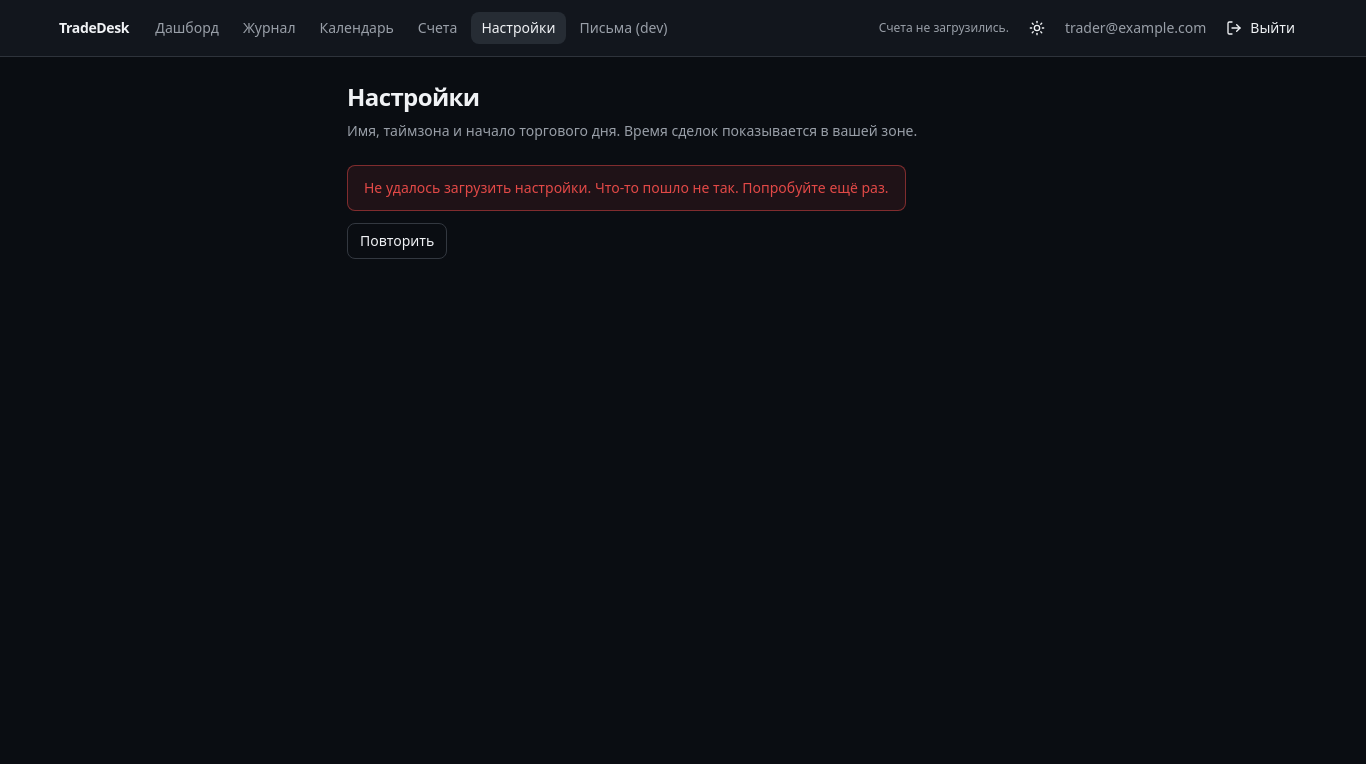
Test: /settings › ошибка загрузки профиля показывается, «Повторить» перечитывает
This screenshot has width=1366, height=764.
Expected: the message shows "Не удалось загрузить настройки.", [364,178,591,197]
Click the button "Повторить" at (397, 241), box [347,223,447,259]
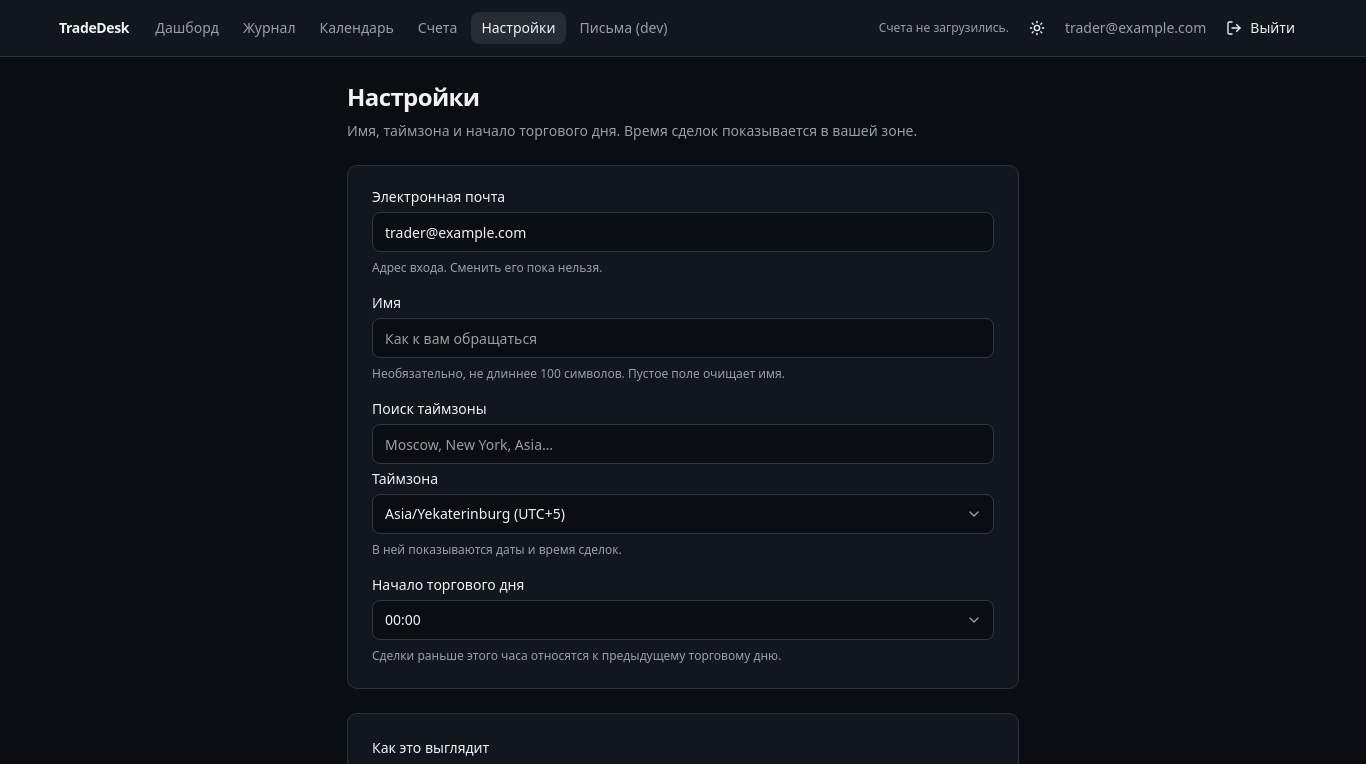
Now the dropdown labelled "Таймзона" shows "Asia/Yekaterinburg (UTC+5)", box [372,494,994,534]
